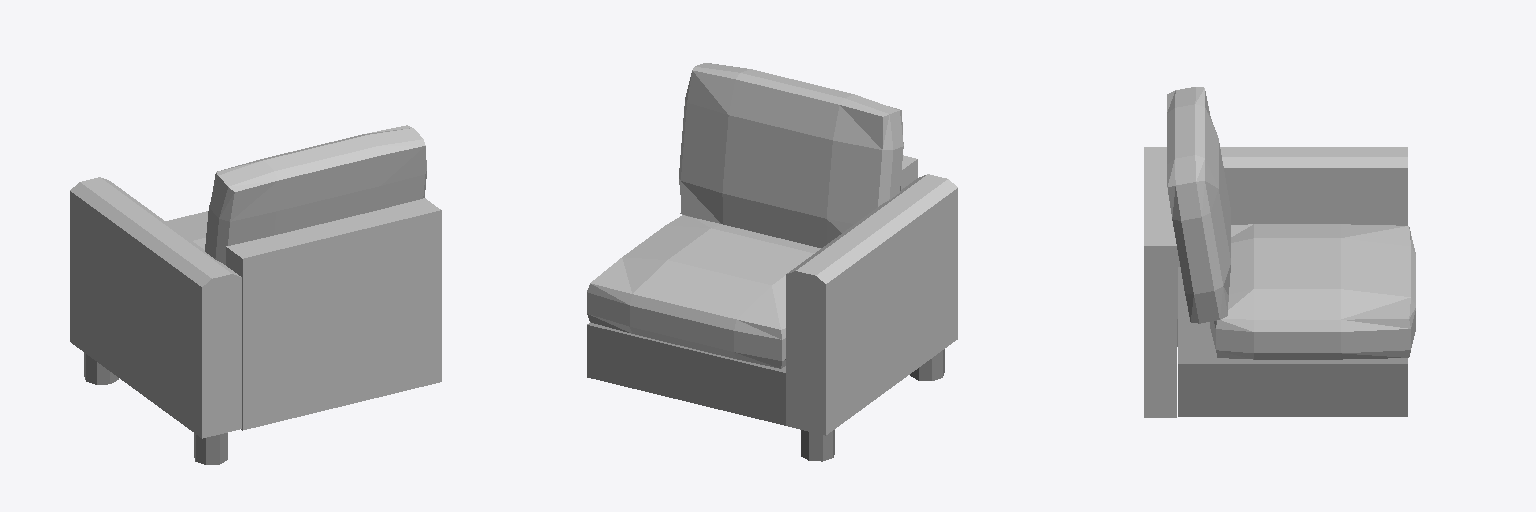
Rendered from simple_sofa_right.obj.
3 renders of one model, left to right at view 1: azimuth 30°, elevation 25°; view 2: azimuth 150°, elevation 25°; view 3: azimuth 270°, elevation 25°, orthographic.
Parts seen in each view (by area): view 1: Cube.004; view 2: Cube.004; view 3: Cube.004.
Part boxes in pixels (bbox=[...]): Cube.004: bbox=[70, 125, 441, 464]; Cube.004: bbox=[587, 63, 957, 461]; Cube.004: bbox=[1144, 87, 1415, 417].
Bounding box in the file's own units: 2.11 × 2.23 × 2.04.